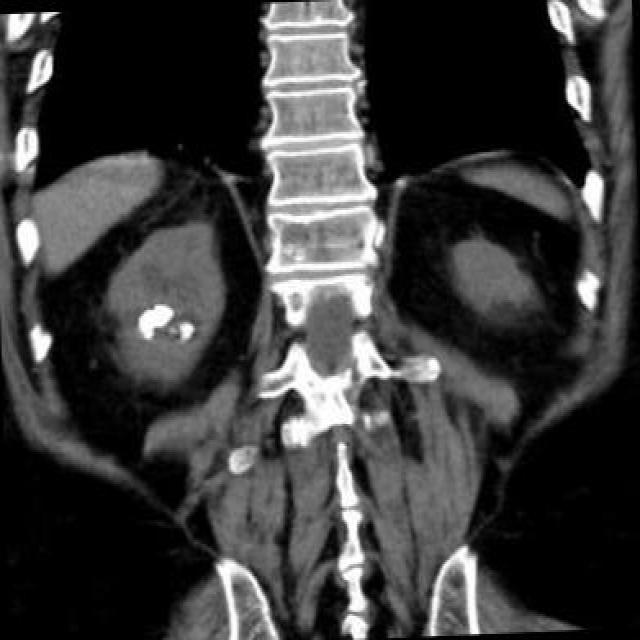Tas_Var: (130, 296, 181, 340), (178, 319, 198, 333), (178, 331, 195, 339), (168, 324, 176, 334)
